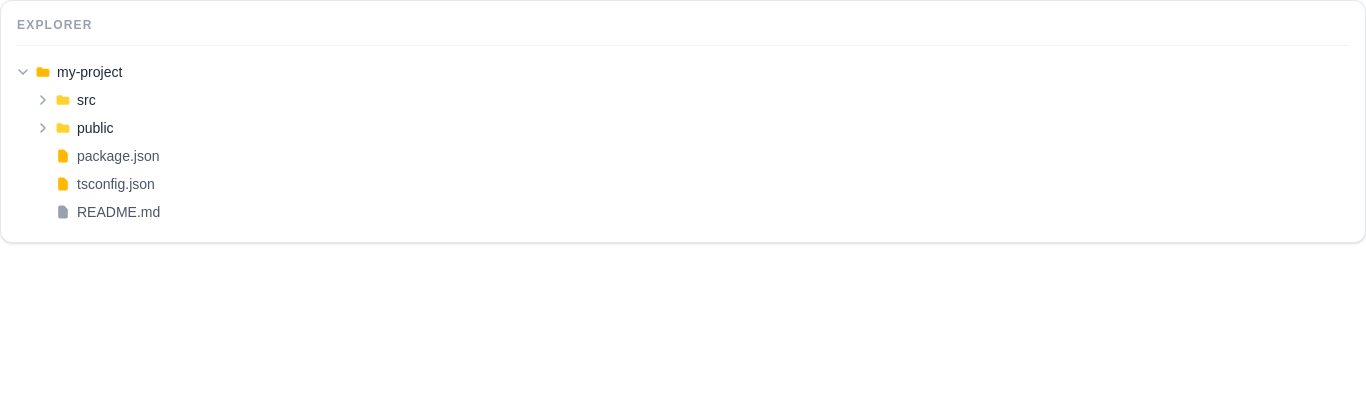
Test: FileTree — toggle open / close › closes an open folder and hides its children when clicked again
The width and height of the screenshot is (1366, 401).
Open src first
Step 1. Click the button "src" → (43,100), box x1=17 y1=86 x2=1349 y2=114
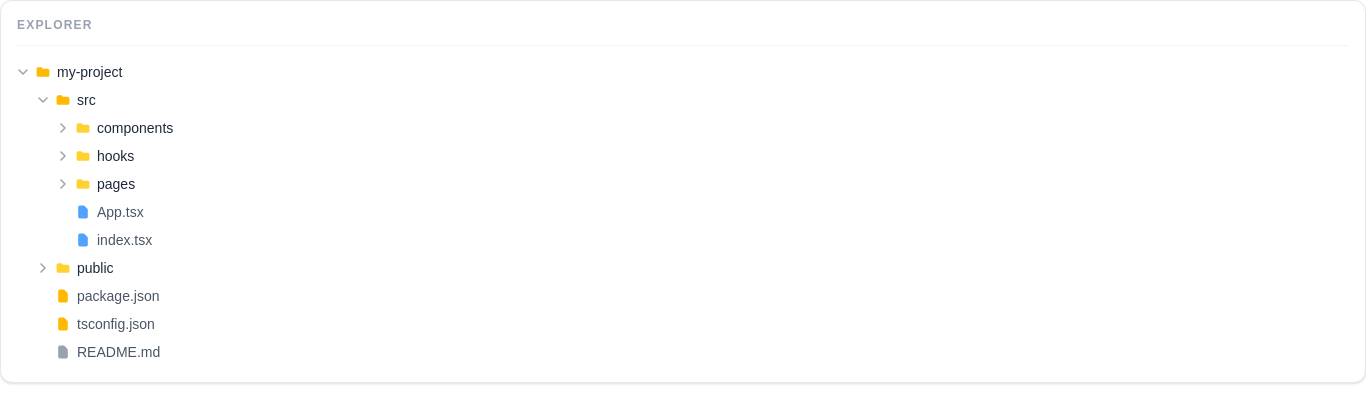
Result: the text "components" is shown at x1=97 y1=118 x2=173 y2=138
Close src
Step 2. Click the button "src" → (43,100), box x1=17 y1=86 x2=1349 y2=114
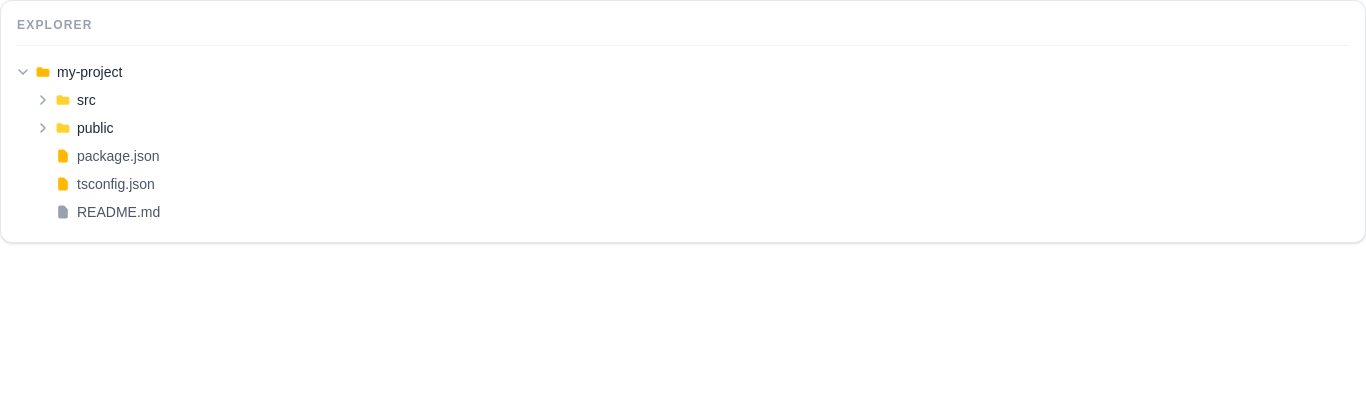
Result: the button "components" is gone
